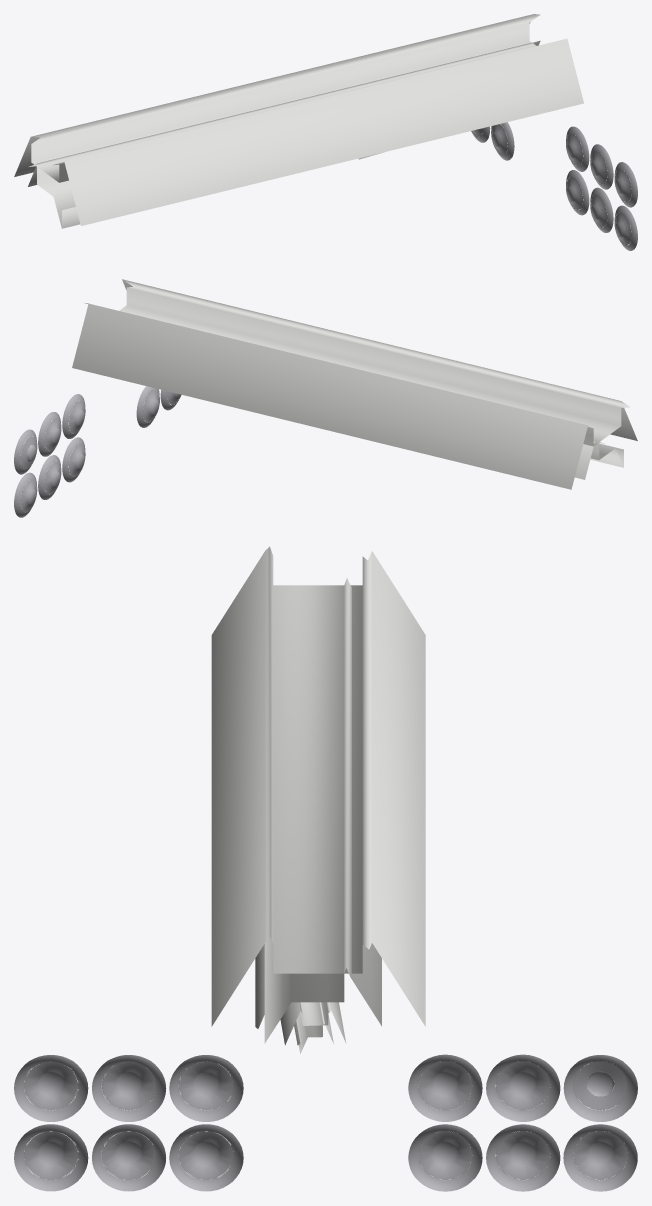
File: iss-truss-s1.glb
3 renders of one model, top to bottom at view 1: azimuth 30°, elevation 25°; view 2: azimuth 150°, elevation 25°; view 3: azimuth 270°, elevation 25°, orthographic. The views are drawn at different scales.
Parts seen in each view (by area): view 1: truss-s1; view 2: truss-s1; view 3: truss-s1.
Boxes of the visible parts, x1,y1,x2,y2 form: truss-s1: (14, 14, 637, 250); truss-s1: (14, 279, 637, 517); truss-s1: (14, 546, 637, 1191).
Size of the model in its own units: 13.25 by 3.89 by 8.62.
1 material, 1 textured.
